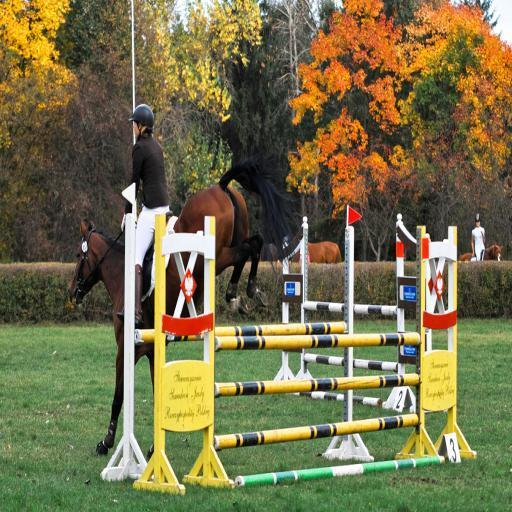horse: (64, 152, 304, 458), (291, 234, 342, 264), (458, 239, 504, 263)
